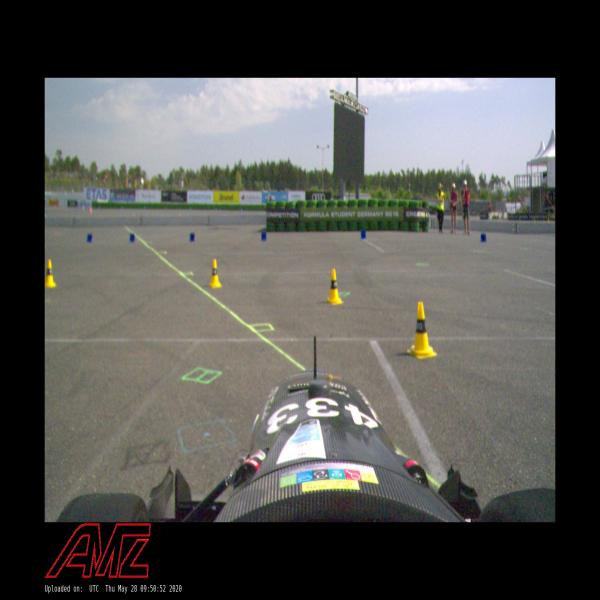yellow_cone: (407, 301, 437, 360), (324, 268, 344, 307), (207, 258, 222, 289), (44, 259, 56, 288)
